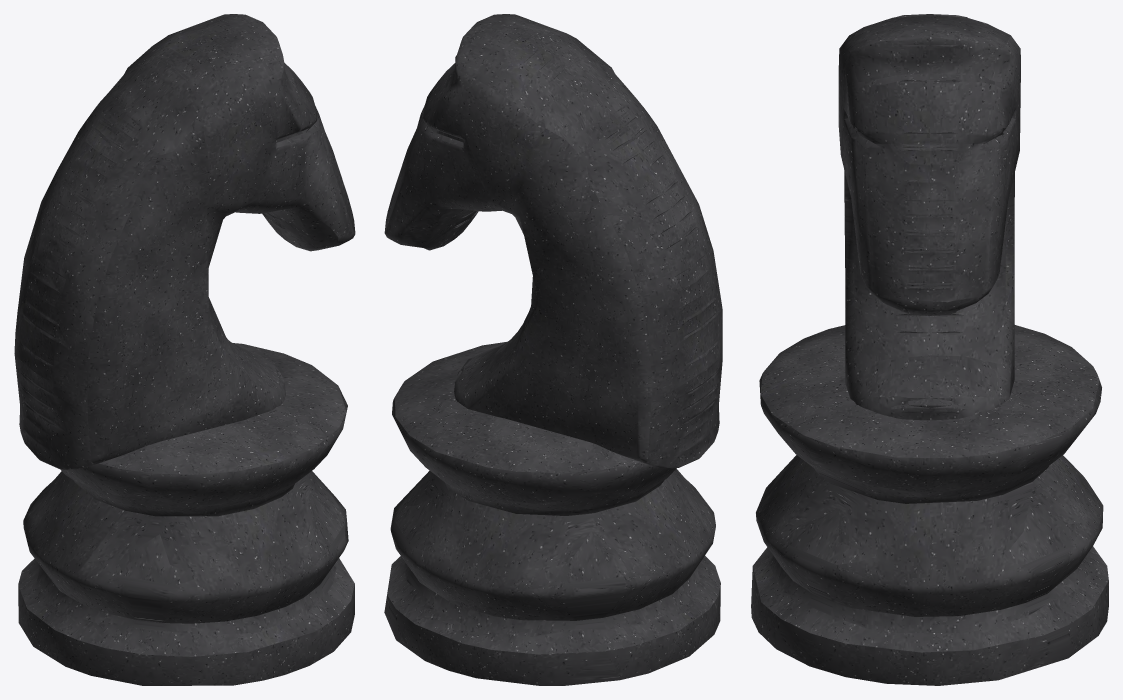
The model's file is jezdec_cerna.glb.
3 renders of one model, left to right at view 1: azimuth 30°, elevation 25°; view 2: azimuth 150°, elevation 25°; view 3: azimuth 270°, elevation 25°, orthographic. The views are drawn at different scales.
Parts seen in each view (by area): view 1: jezdec_cerna; view 2: jezdec_cerna; view 3: jezdec_cerna.
Part boxes in pixels (x1,y1,x2,y2): jezdec_cerna: (14,14,355,685); jezdec_cerna: (384,14,722,685); jezdec_cerna: (751,14,1108,685).
Size of the model in its own units: 0.0368 by 0.0664 by 0.0345.
Materials: 1 (1 with a texture image).
